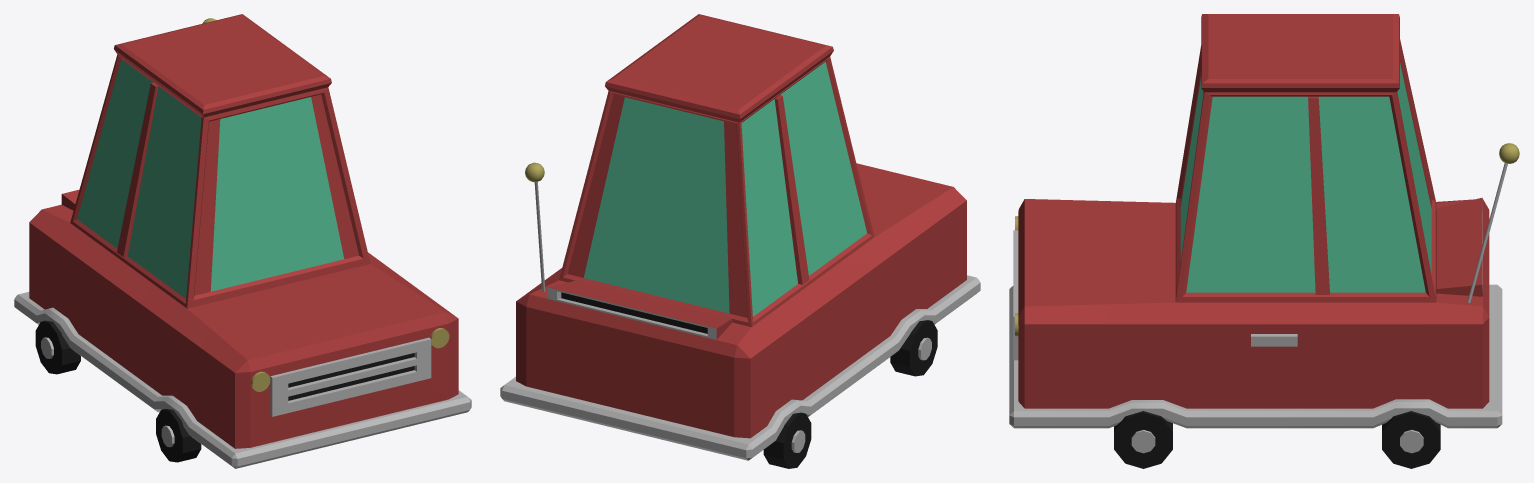
The model's file is Red Toy Car.fbx.
3 renders of one model, left to right at view 1: azimuth 30°, elevation 25°; view 2: azimuth 150°, elevation 25°; view 3: azimuth 270°, elevation 25°, orthographic. The views are drawn at different scales.
Parts seen in each view (by area): view 1: pCube5, pCylinder14, pCylinder13; view 2: pCube5, pCylinder13, pCylinder14, pCube6; view 3: pCube5, pCylinder15, pCylinder16, pCube6.
Boxes of the visible parts, x1,y1,x2,y2 form: pCube5: (14,14,471,468); pCylinder14: (35,320,80,374); pCylinder13: (156,409,201,462); pCube5: (500,14,980,460); pCylinder13: (890,320,937,376); pCylinder14: (763,412,811,468); pCube6: (525,162,545,292); pCube5: (1009,14,1502,428); pCylinder15: (1382,411,1440,468); pCylinder16: (1114,411,1172,468); pCube6: (1467,143,1519,302).
Size of the model in its own units: 3.24 by 3.91 by 5.1.
